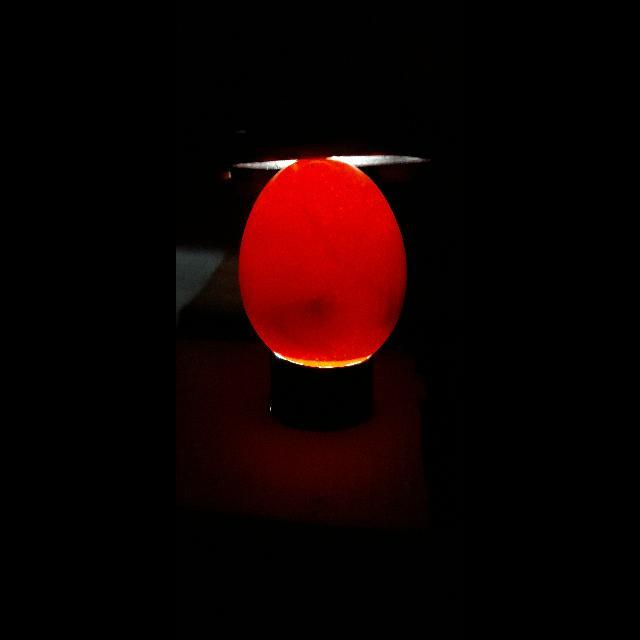Fertile: (235, 156, 410, 374)
